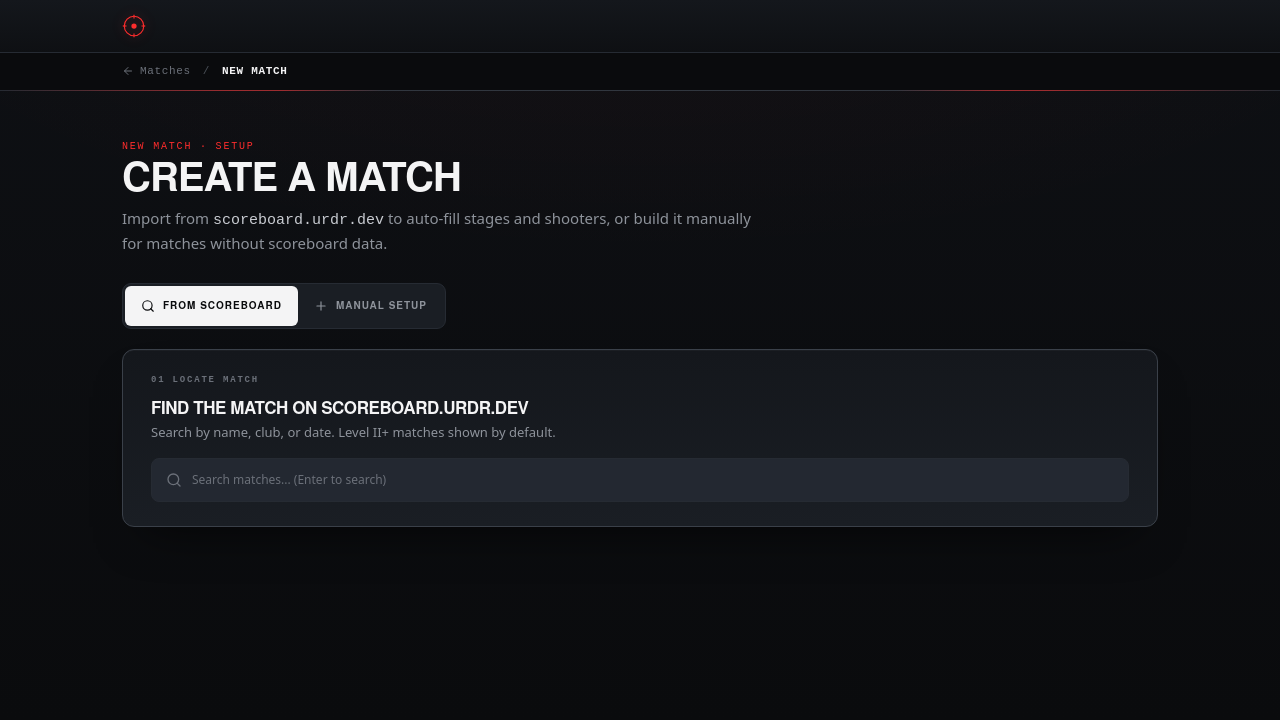
Test: CreateMatch › shows an access refusal from create as one line, not the raw detail
The image size is (1280, 720).
Click the tab "Manual setup" at point(370, 306), box top-left (298, 286), bottom-right (443, 326)
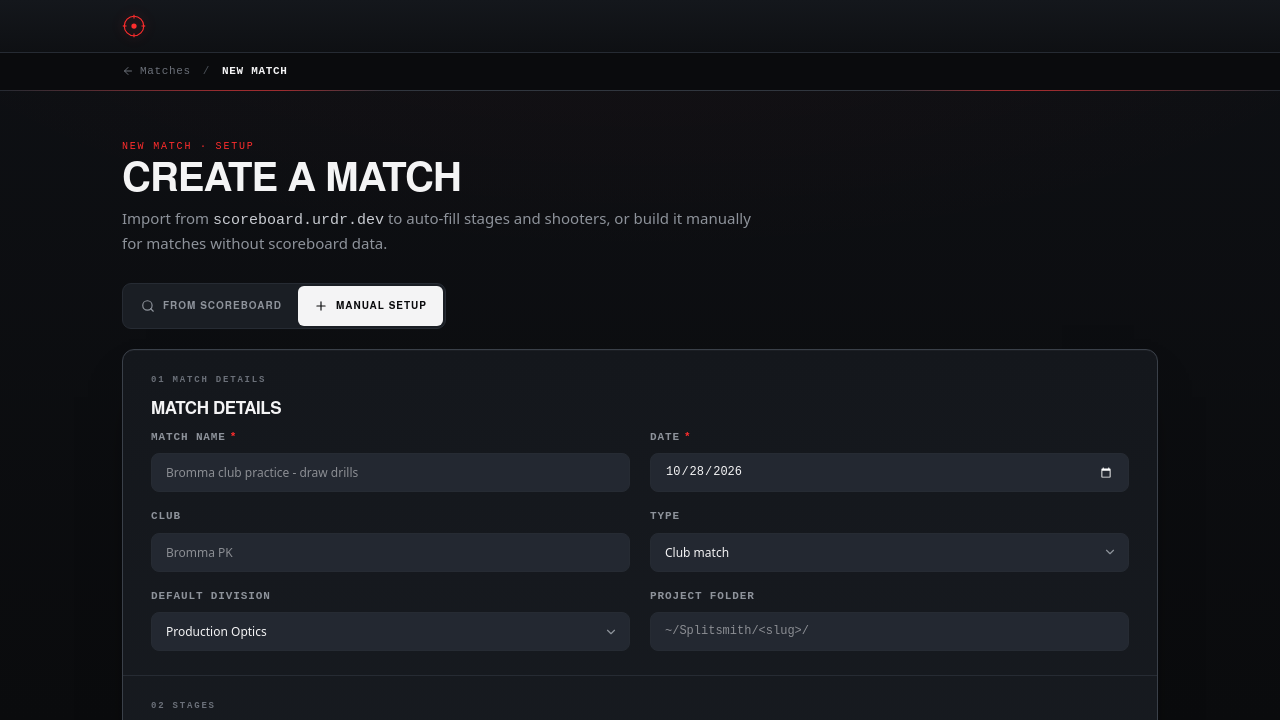
Type "Club night" into the field with placeholder "Bromma club practice - draw drills" at point(390, 473), box top-left (151, 453), bottom-right (630, 492)
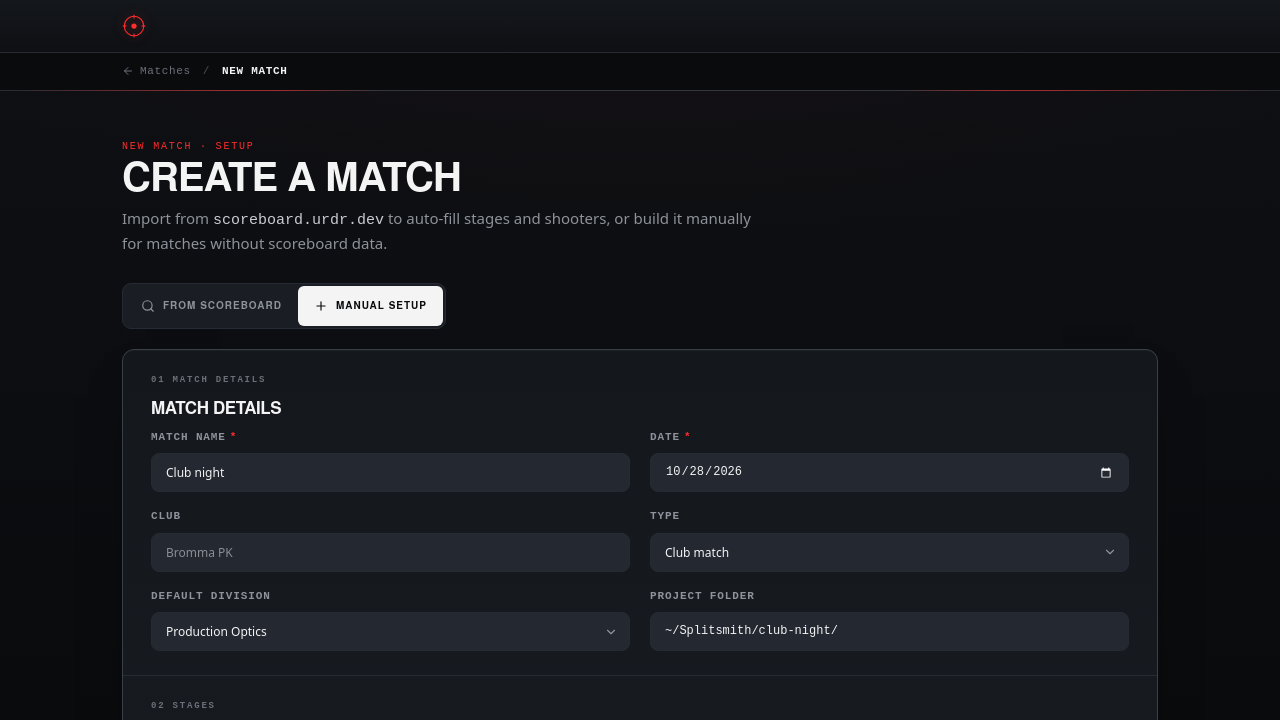
Replace the text in the field with placeholder "~/Splitsmith/<slug>/" below "Project folder" with "/m/club" at point(890, 632), box top-left (650, 612), bottom-right (1129, 651)
(page scrolled)
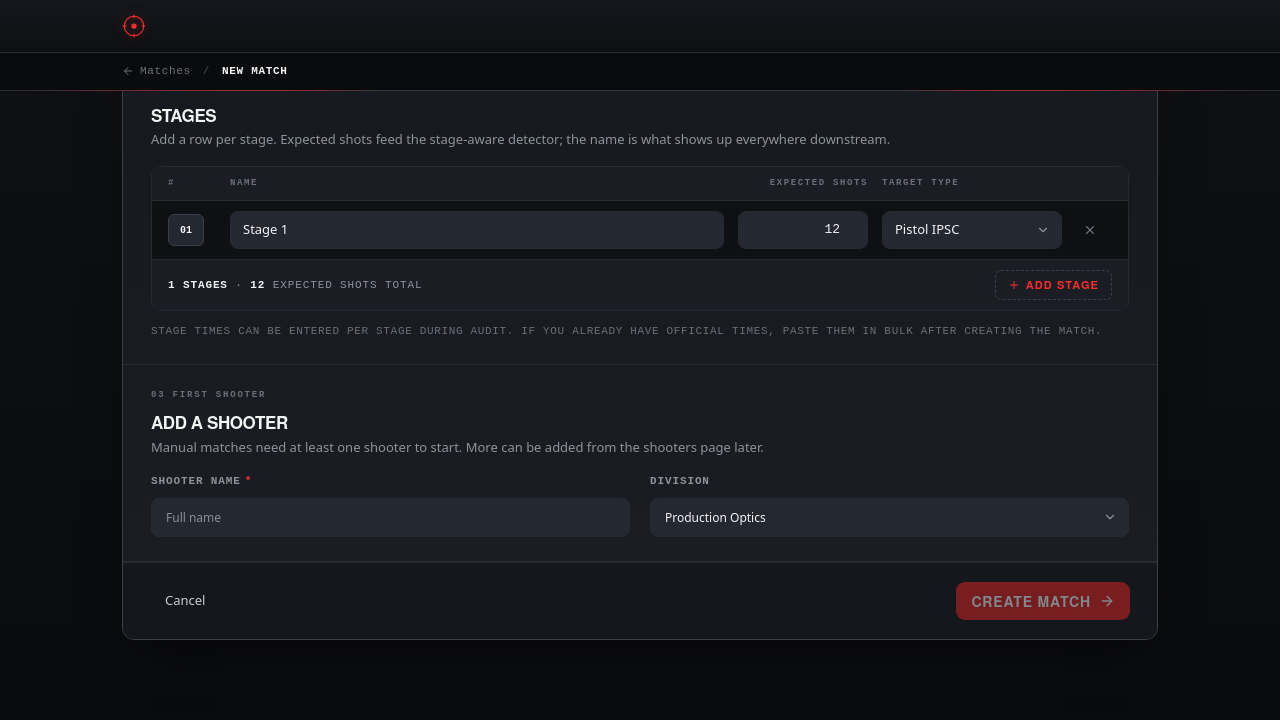
Type "Anna" into the field with placeholder "Full name" at point(390, 517), box top-left (151, 498), bottom-right (630, 537)
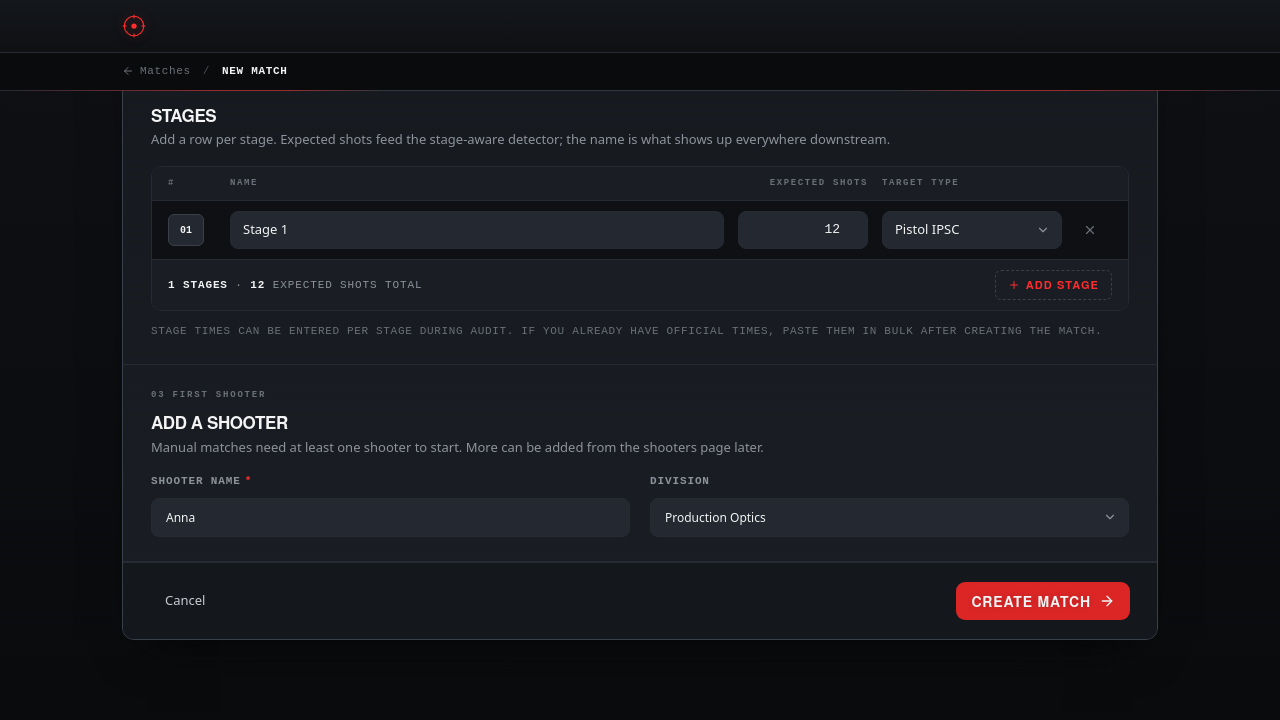
Click the button "Create match" at point(1043, 601), box top-left (957, 583), bottom-right (1129, 619)
(page scrolled)
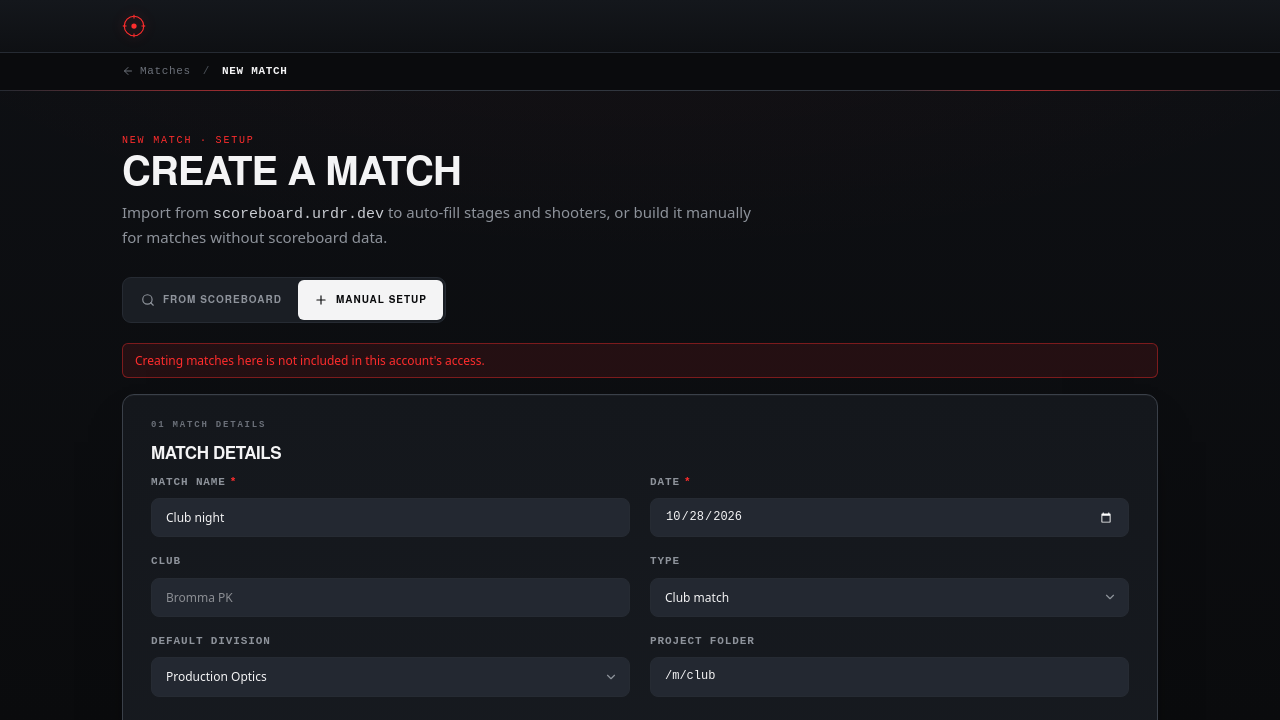
Result: the text "Creating matches here is not included in this account's access." is shown at top-left (122, 342), bottom-right (1158, 378)
